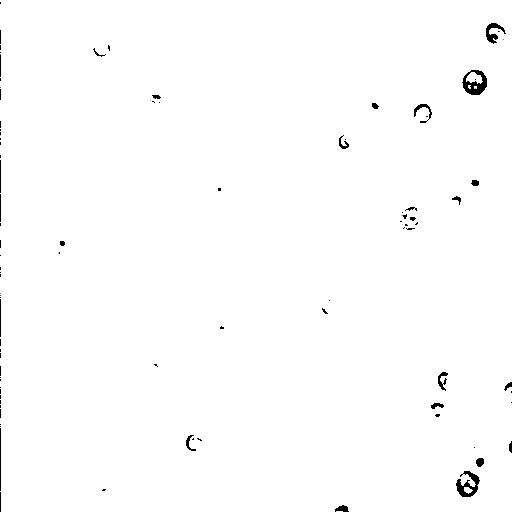micro-algae: (35, 209, 112, 287), (2, 191, 55, 270), (3, 24, 59, 81), (367, 196, 427, 248), (45, 1, 104, 42), (473, 0, 510, 65), (375, 11, 411, 53), (133, 0, 179, 29), (0, 89, 33, 127), (459, 168, 491, 203), (75, 205, 107, 239), (199, 169, 230, 203), (163, 104, 192, 135), (399, 200, 427, 232), (355, 87, 383, 119), (317, 293, 344, 323), (455, 470, 483, 498), (461, 68, 488, 97), (465, 445, 493, 472), (87, 478, 115, 504), (119, 337, 143, 362), (149, 356, 172, 382), (413, 100, 433, 125), (484, 21, 504, 44), (55, 232, 73, 253), (438, 371, 455, 391), (92, 39, 111, 56), (187, 432, 203, 452), (338, 133, 355, 150), (501, 379, 512, 404), (428, 398, 442, 417), (446, 194, 461, 208), (331, 501, 351, 511), (506, 435, 511, 451)
